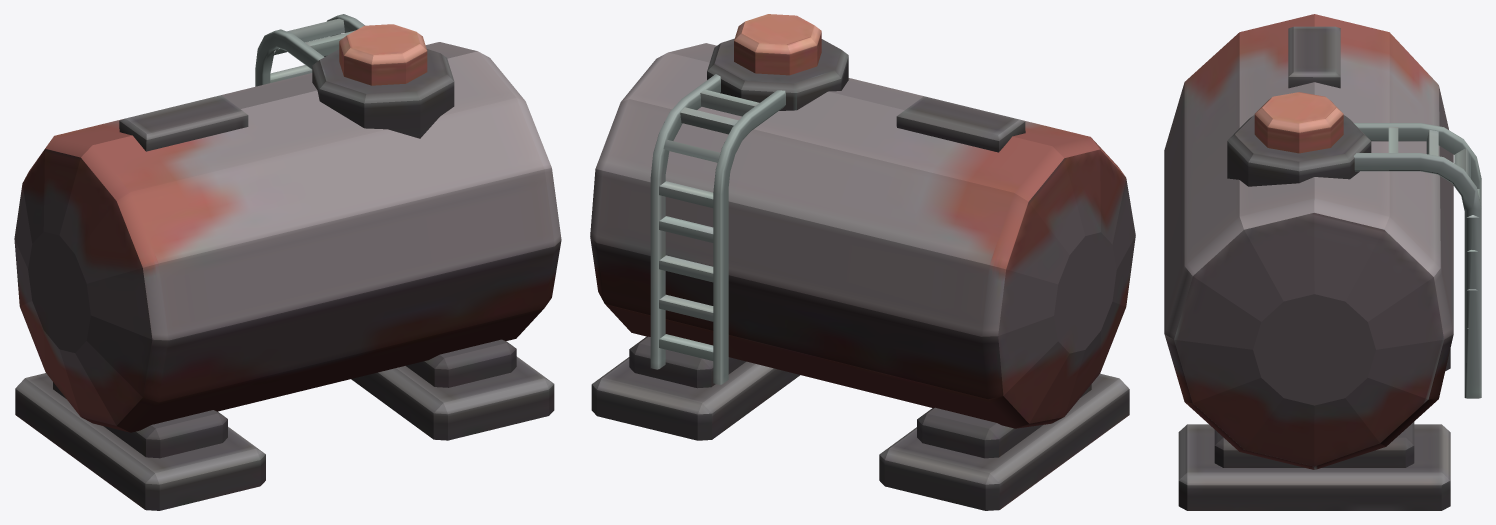
File: SM_chuyouguan.glb
The picture shows the model from 3 angles, left to right: view 1: azimuth 30°, elevation 25°; view 2: azimuth 150°, elevation 25°; view 3: azimuth 270°, elevation 25°; orthographic projection. The views are drawn at different scales.
Parts seen in each view (by area): view 1: SM_chuyouguan; view 2: SM_chuyouguan; view 3: SM_chuyouguan.
Boxes of the visible parts, x1,y1,x2,y2 form: SM_chuyouguan: [14, 14, 561, 510]; SM_chuyouguan: [590, 14, 1135, 510]; SM_chuyouguan: [1164, 14, 1481, 510].
Size of the model in its own units: 2.33 by 1.76 by 1.45.
2 materials, 2 textured.
